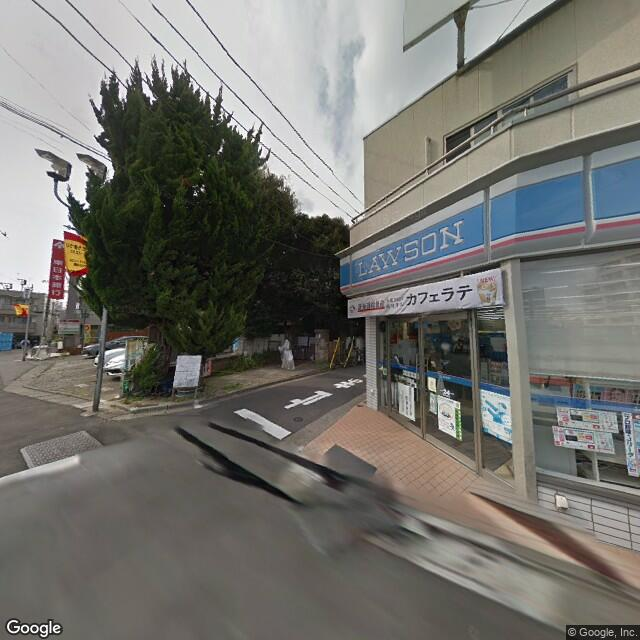lawson: (336, 135, 638, 295)
